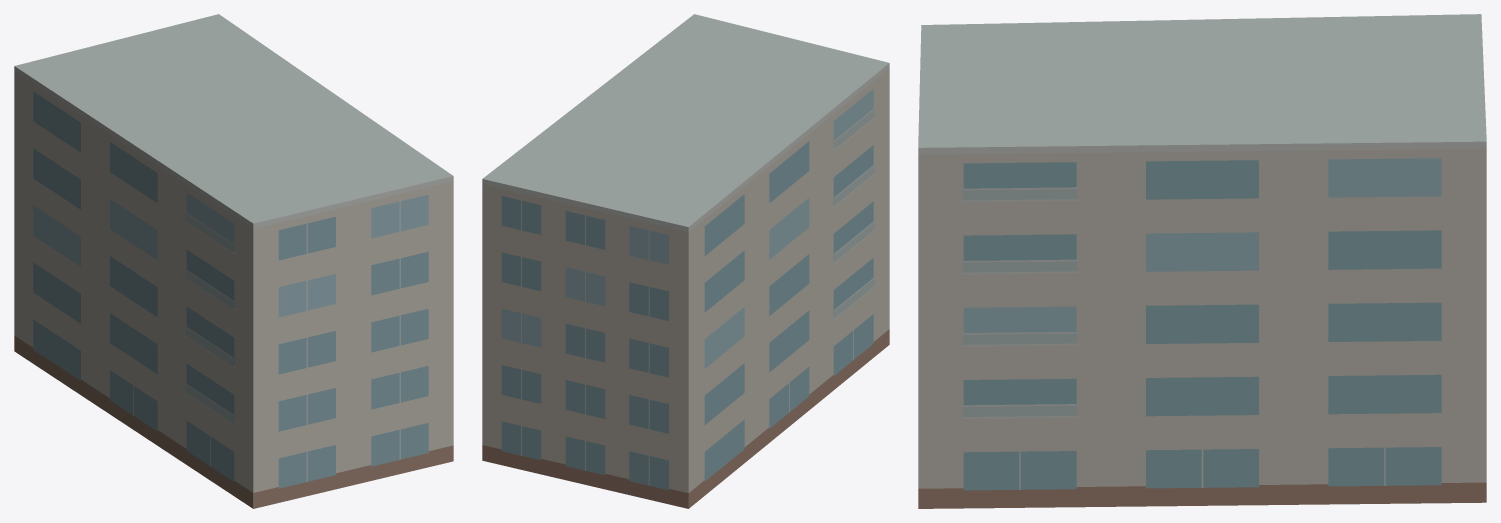
The model's file is survey-upis-32761426.glb.
3 views of the same model, side by side, from view 1: azimuth 30°, elevation 25°; view 2: azimuth 150°, elevation 25°; view 3: azimuth 270°, elevation 25° (orthographic). The views are drawn at different scales.
Parts seen in each view (by area): view 1: survey-upis-32761426.tmp; view 2: survey-upis-32761426.tmp; view 3: survey-upis-32761426.tmp.
Part boxes in pixels (x1=…): survey-upis-32761426.tmp: x1=14, y1=14, x2=453, y2=508; survey-upis-32761426.tmp: x1=482, y1=14, x2=889, y2=508; survey-upis-32761426.tmp: x1=918, y1=14, x2=1486, y2=508.
Bounding box in the file's own units: 10.43 × 13.1 × 18.71.
